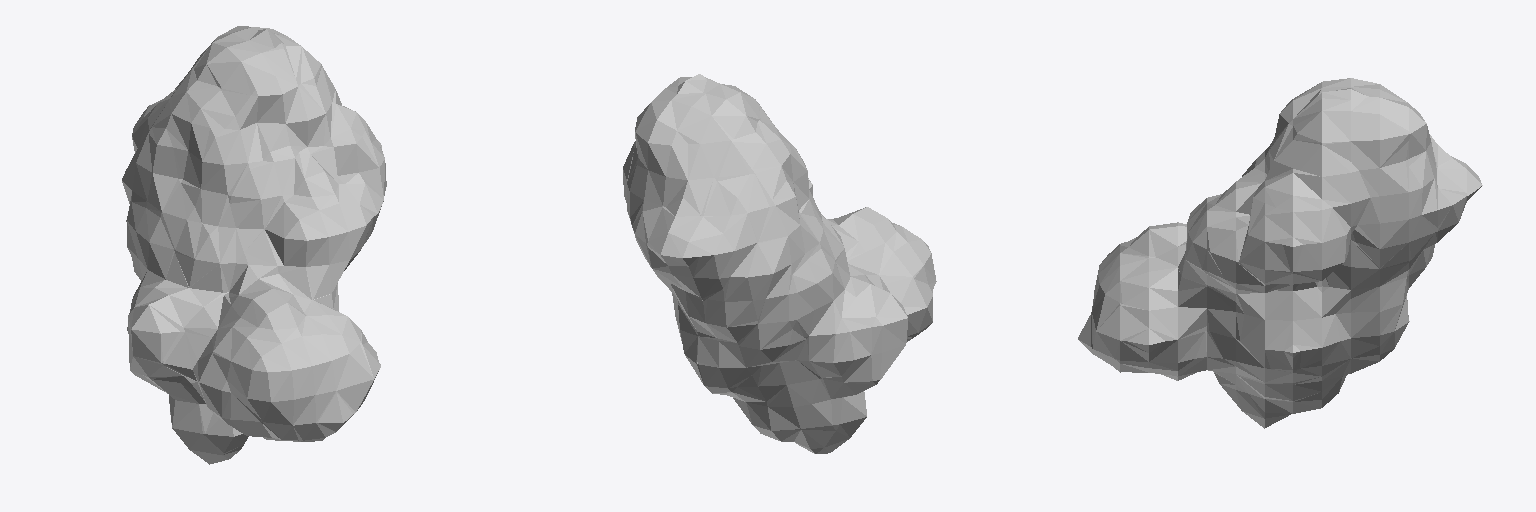
Rendered from 1gax_1_cms.obj.
The picture shows the model from 3 angles: view 1: azimuth 30°, elevation 25°; view 2: azimuth 150°, elevation 25°; view 3: azimuth 270°, elevation 25°; orthographic projection.
Bounding box in the file's own units: 89.4 × 122 × 118.